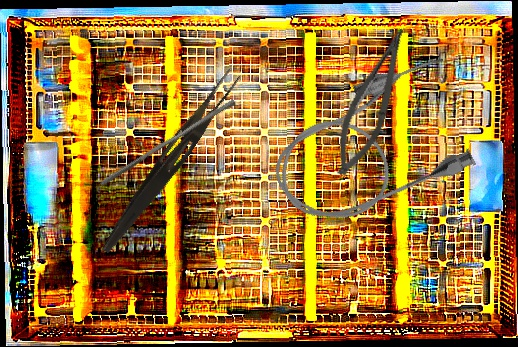Cannula: (254, 46, 489, 244)
Dressing Forceps: (98, 64, 242, 260)
Micro Scissor: (325, 18, 416, 184)
Pusher: (99, 94, 236, 192)
